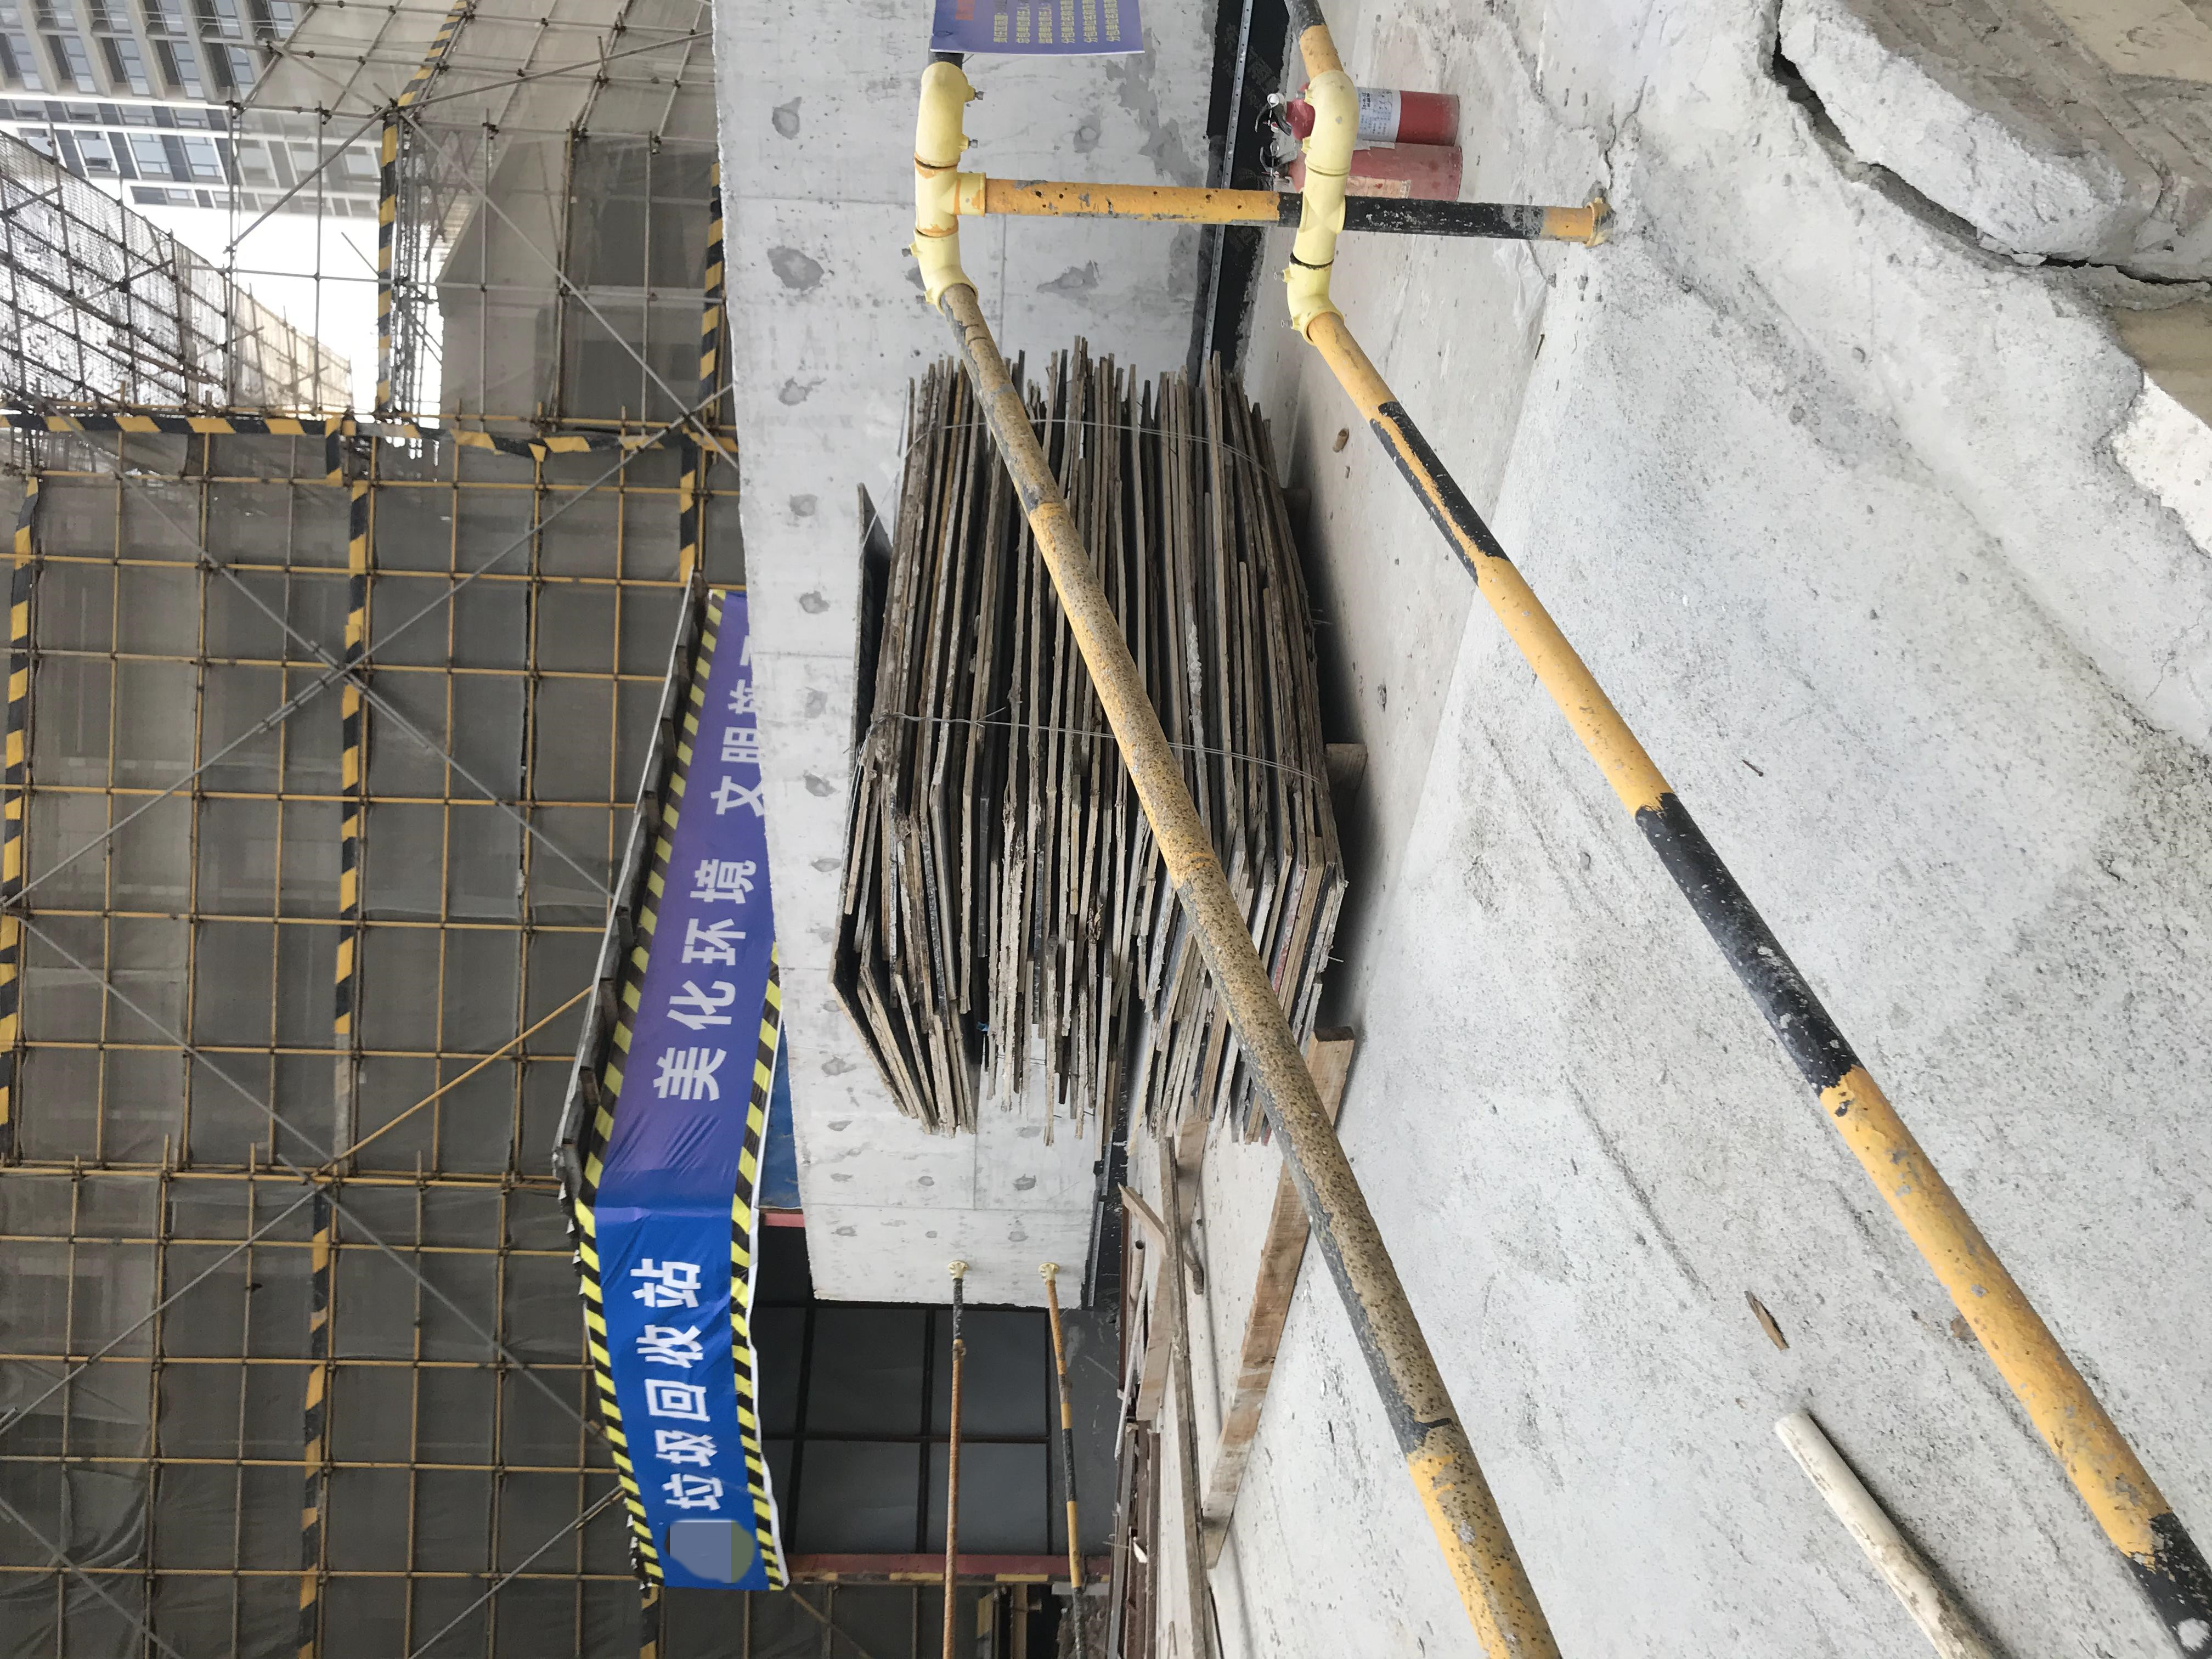board: (838, 356, 1343, 1152)
slogan: (624, 603, 829, 1178)
